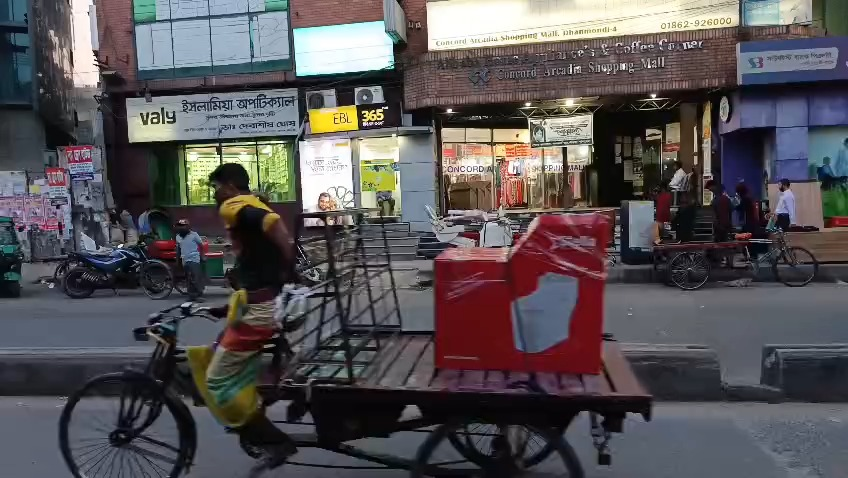Bikes: (48, 244, 175, 300)
auto-ricksaw: (47, 268, 663, 478), (48, 270, 661, 478), (628, 213, 832, 309), (129, 205, 218, 278)
cng: (2, 210, 39, 290)
